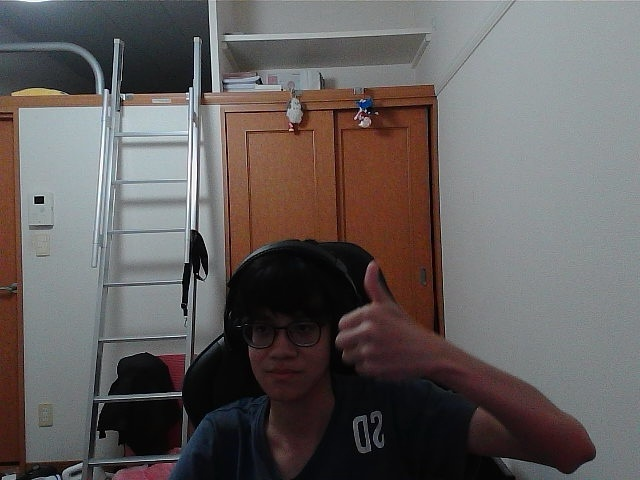thumb_up: (342, 269, 427, 370)
